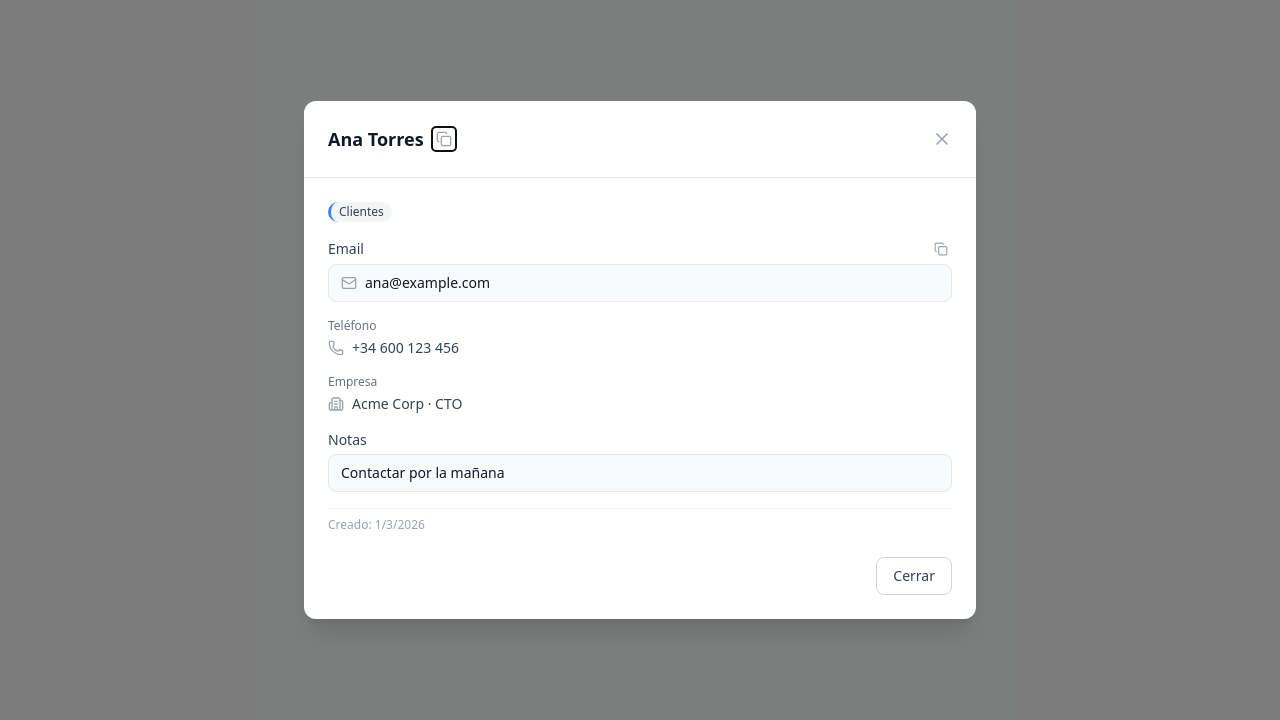
Test: ContactViewModal › copia el nombre de forma independiente del email
The width and height of the screenshot is (1280, 720).
Click the button named "Copiar nombre". click: (444,139)
box: [432,127,456,151]
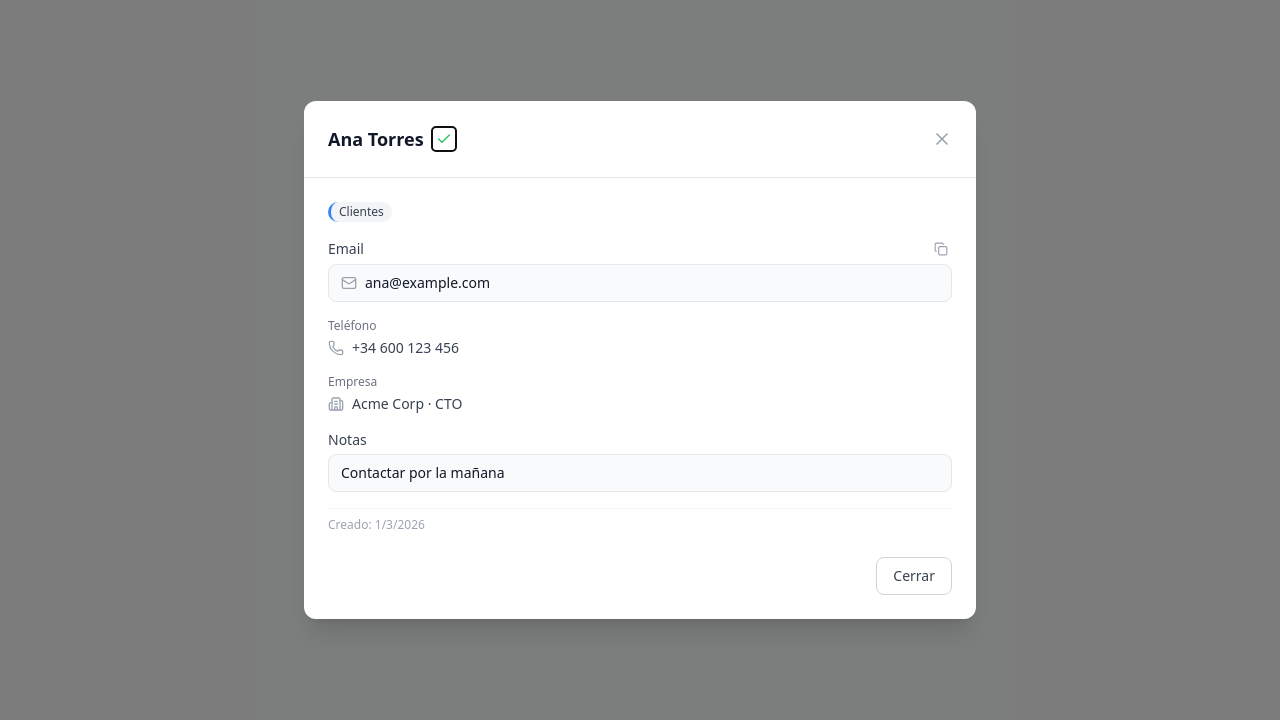
Result: the icon next to "Ana Torres" is shown at [436,131,452,147]
